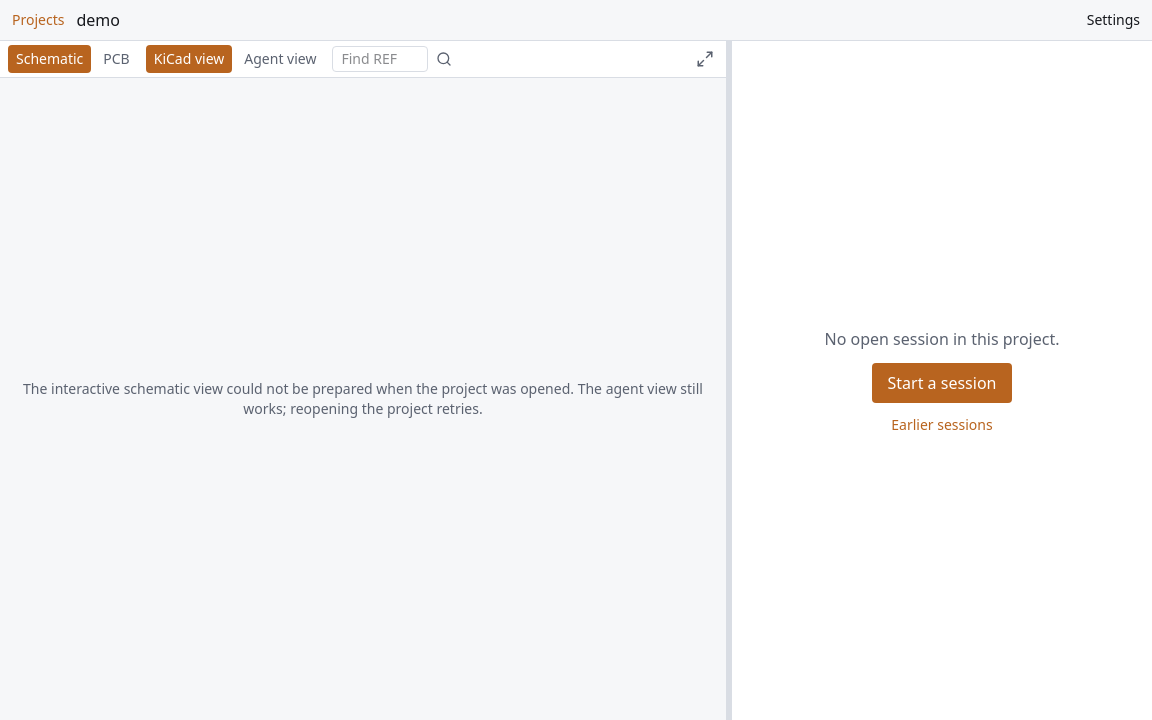
Test: ProjectPage › only closed sessions: the empty state offers the earlier sessions
The width and height of the screenshot is (1152, 720).
Click the button "Earlier sessions": (942, 424) [891, 414, 993, 434]
(page scrolled)
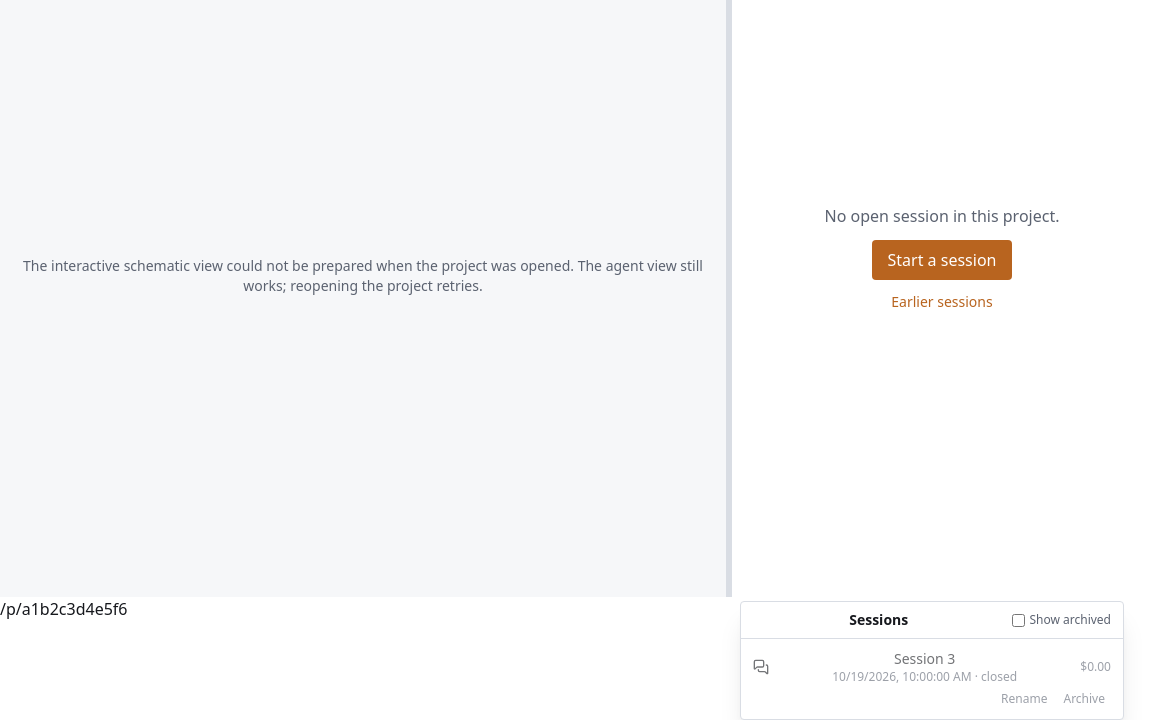
Check: the list named "Sessions" shows "Session 3", box [753, 649, 1111, 685]
